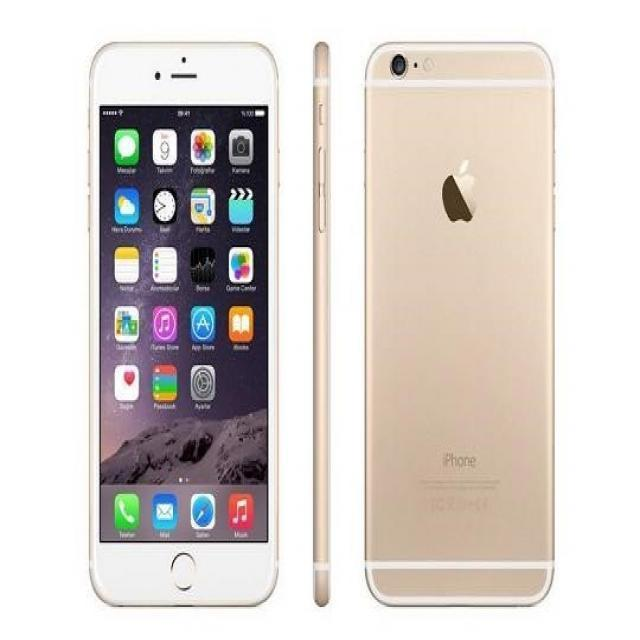lens: (389, 52, 408, 78), (150, 68, 163, 84)
phone: (86, 37, 281, 608), (363, 39, 558, 605), (309, 39, 334, 611)
